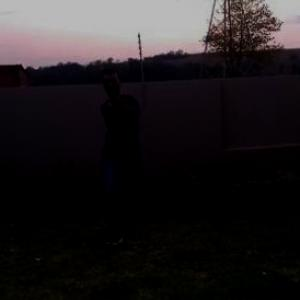takeoff-hand: (110, 85, 134, 116)
